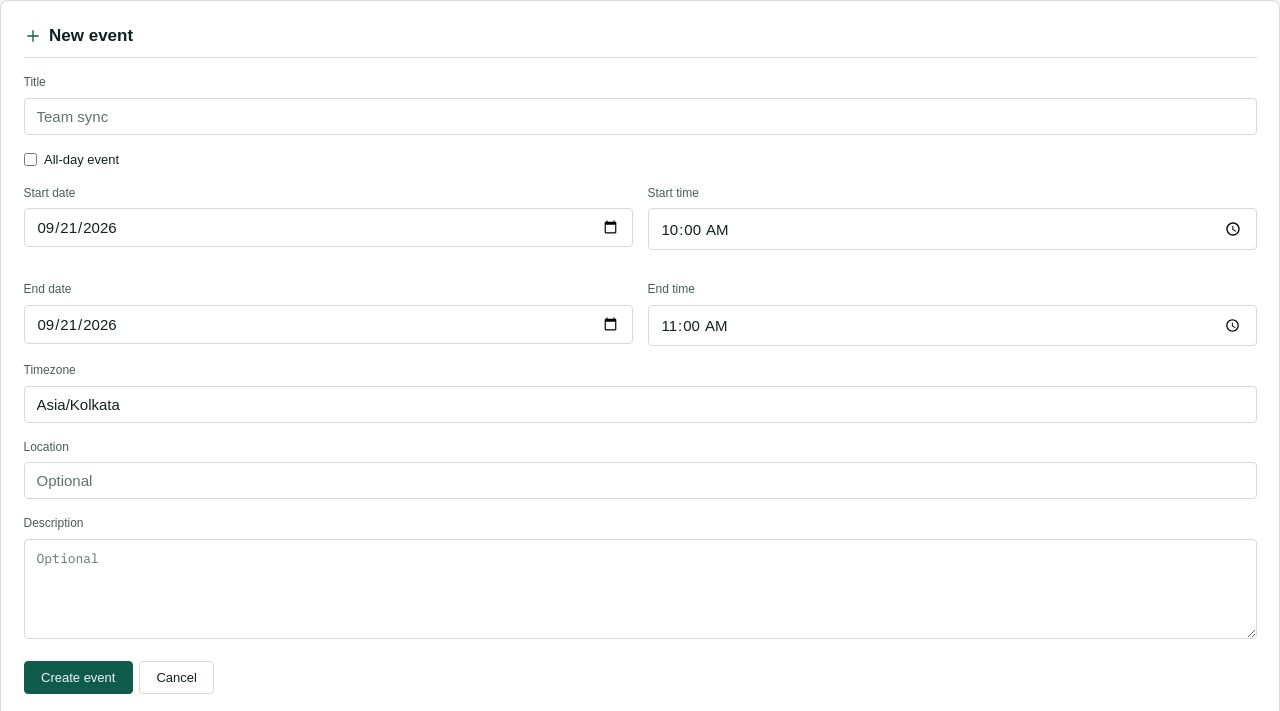
Test case: EventForm › swaps time inputs for dates when all-day is ticked
Expected: the time field labelled "Start time" is shown, x1=648 y1=208 x2=1256 y2=250
Click the checkbox labelled "All-day event": (30, 160) x1=24 y1=154 x2=36 y2=166
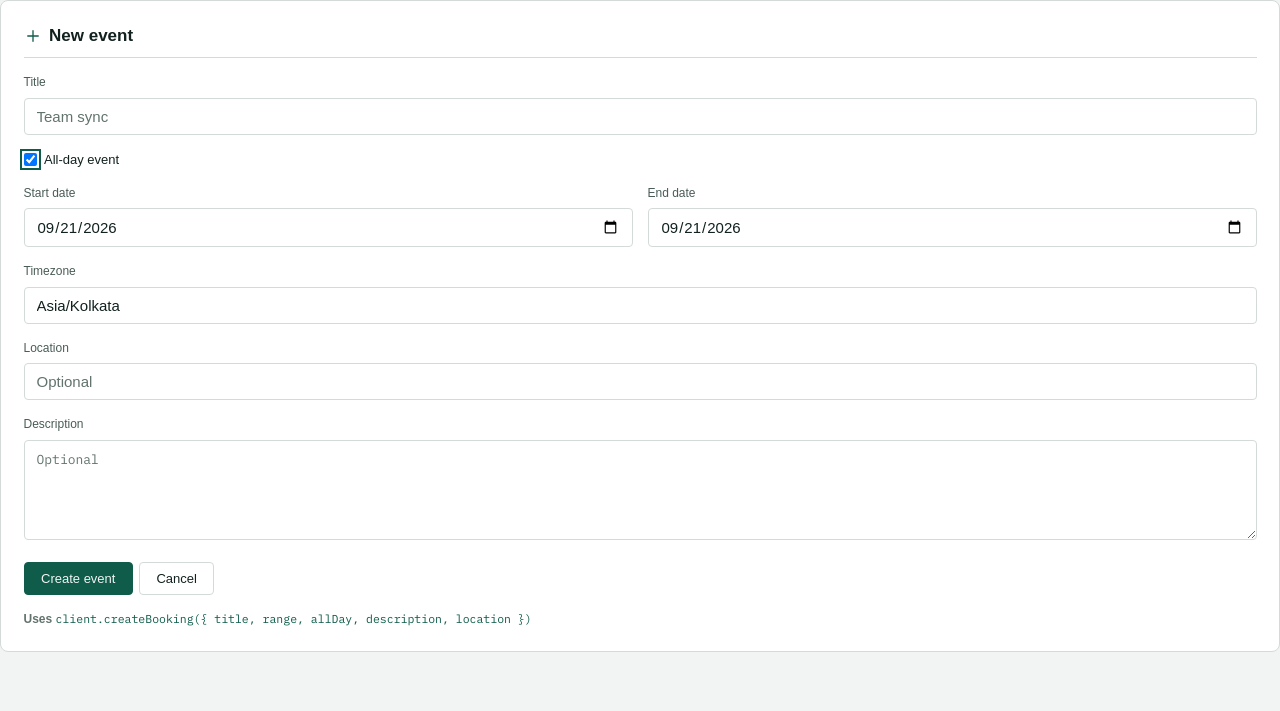
Expected: the date field labelled "End date" is shown, x1=648 y1=208 x2=1256 y2=247
Now the label labelled "Start time" is gone
